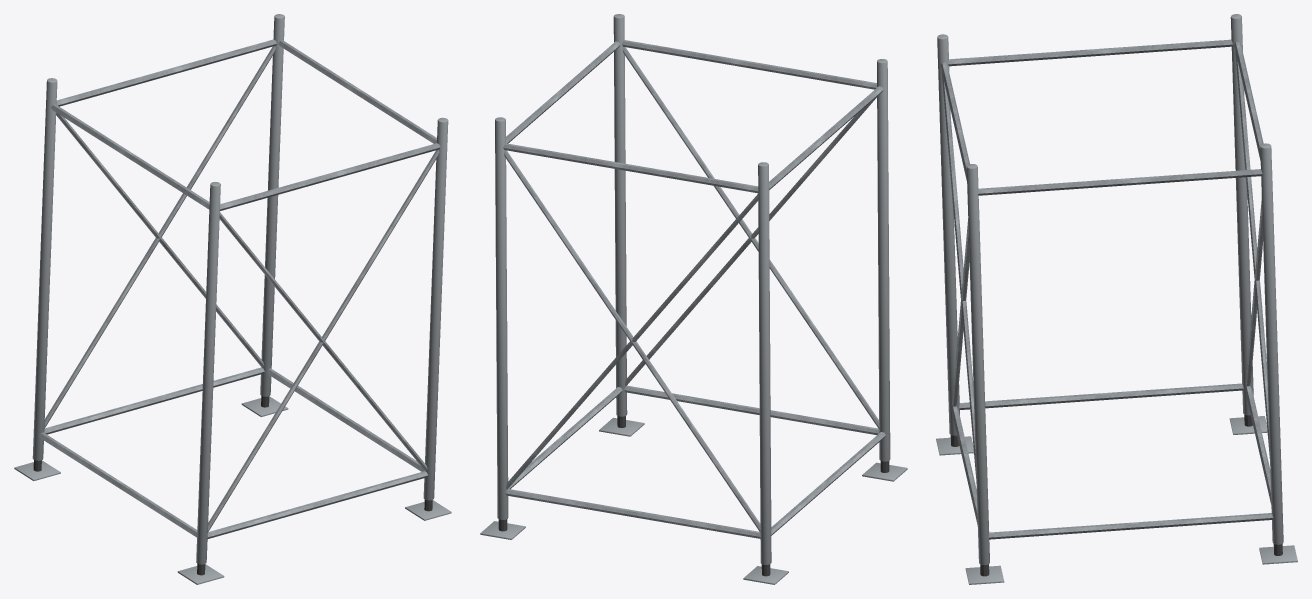
The model's file is EST-ESC-002_anim.glb.
3 views of the same model, side by side, from view 1: azimuth 30°, elevation 25°; view 2: azimuth 150°, elevation 25°; view 3: azimuth 270°, elevation 25° (orthographic). The views are drawn at different scales.
Parts seen in each view (by area): view 1: EST-ESC-002_anim0; view 2: EST-ESC-002_anim0; view 3: EST-ESC-002_anim0.
Boxes of the visible parts, left/top/right/bottom form: EST-ESC-002_anim0: left=14, top=14, right=451, bottom=584; EST-ESC-002_anim0: left=480, top=14, right=907, bottom=584; EST-ESC-002_anim0: left=936, top=14, right=1297, bottom=584.
Size of the model in its own units: 1.23 by 1.6 by 1.23.
2 materials, 2 textured.
